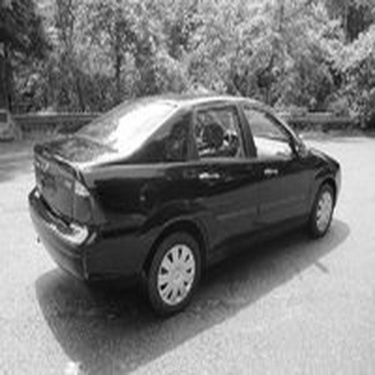car: (20, 78, 346, 319), (1, 105, 21, 145)
